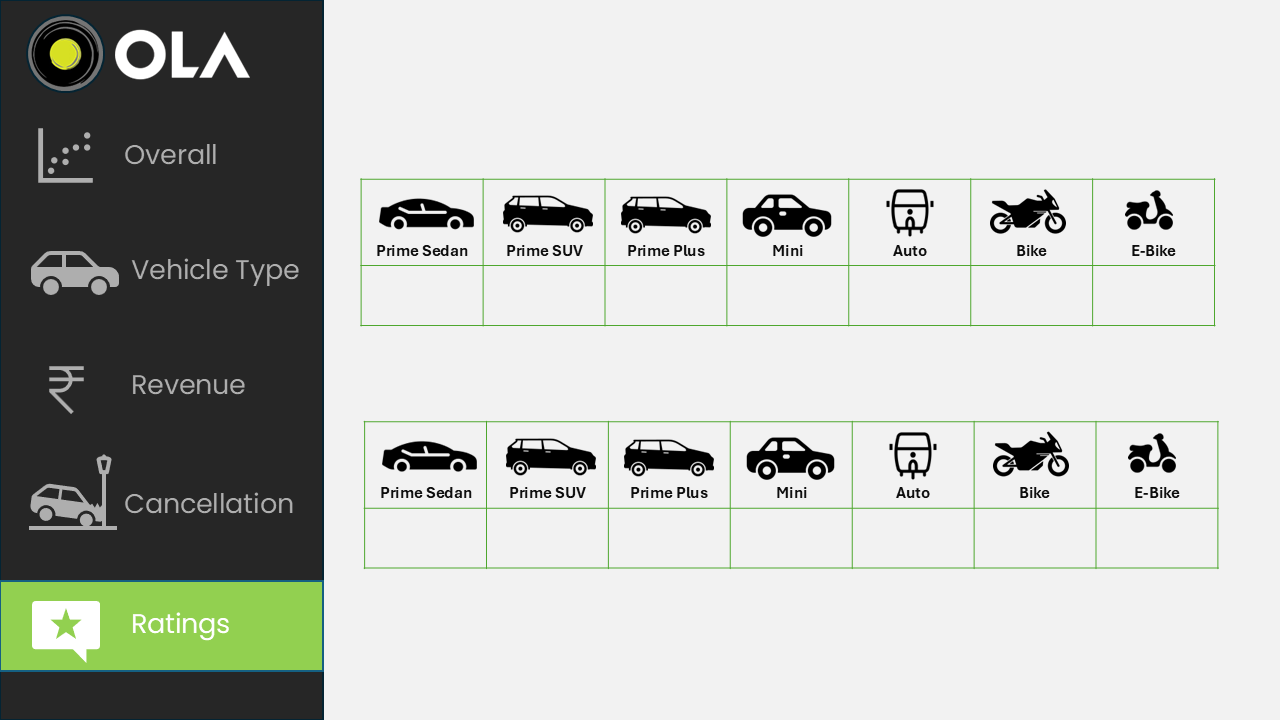

Layout of this report page (visuals, bound fields, positions):
{"tool":"powerbi","page":{"name":"Ratings","canvas":[1280,720],"ordinal":4},"visuals":[{"type":"actionButton","box":[0,224,320,96],"z":0},{"type":"actionButton","box":[0,336,320,96],"z":1000},{"type":"actionButton","box":[0,448,320,96],"z":2000},{"type":"actionButton","box":[0,112,320,96],"z":3000},{"type":"card","fields":{"Values":["Avg(Bookings - July.Driver_Ratings)"]},"box":[368,256,112,80],"z":4000},{"type":"card","fields":{"Values":["Avg(Bookings - July.Driver_Ratings)"]},"box":[1088,256,112,80],"z":5000},{"type":"card","fields":{"Values":["Avg(Bookings - July.Driver_Ratings)"]},"box":[976,256,112,80],"z":6000},{"type":"card","fields":{"Values":["Avg(Bookings - July.Driver_Ratings)"]},"box":[848,256,112,80],"z":7000},{"type":"card","fields":{"Values":["Avg(Bookings - July.Driver_Ratings)"]},"box":[720,256,112,80],"z":8000},{"type":"card","fields":{"Values":["Avg(Bookings - July.Driver_Ratings)"]},"box":[608,256,96,80],"z":9000},{"type":"card","fields":{"Values":["Avg(Bookings - July.Driver_Ratings)"]},"box":[480,256,112,80],"z":10000},{"type":"card","fields":{"Values":["Avg(Bookings - July.Customer_Rating)"]},"box":[368,496,112,80],"z":11000},{"type":"card","fields":{"Values":["Avg(Bookings - July.Customer_Rating)"]},"box":[608,496,112,80],"z":12000},{"type":"card","fields":{"Values":["Avg(Bookings - July.Customer_Rating)"]},"box":[480,496,112,80],"z":13000},{"type":"card","fields":{"Values":["Avg(Bookings - July.Customer_Rating)"]},"box":[1104,496,112,80],"z":14000},{"type":"card","fields":{"Values":["Avg(Bookings - July.Customer_Rating)"]},"box":[976,496,112,80],"z":15000},{"type":"card","fields":{"Values":["Avg(Bookings - July.Customer_Rating)"]},"box":[848,496,112,80],"z":16000},{"type":"card","fields":{"Values":["Avg(Bookings - July.Customer_Rating)"]},"box":[736,496,112,80],"z":17000},{"type":"textbox","box":[368,128,176,48],"z":18000},{"type":"textbox","box":[368,368,208,48],"z":19000},{"type":"slicer","title":"Date","fields":{"Values":["Bookings - July.Date"]},"box":[912,16,304,112],"z":20000}]}

Visuals, with their boxes on the page's 1280x720 design canvas (x1, y1, x2, y2). These are canvas units, not pixel positions in the 1280x720 screenshot, which may show the page scaled, cropped or inside an application window:
actionButton: detection(0, 224, 320, 320)
actionButton: detection(0, 336, 320, 432)
actionButton: detection(0, 448, 320, 544)
actionButton: detection(0, 112, 320, 208)
card - Avg(Bookings - July.Driver_Ratings): detection(368, 256, 480, 336)
card - Avg(Bookings - July.Driver_Ratings): detection(1088, 256, 1200, 336)
card - Avg(Bookings - July.Driver_Ratings): detection(976, 256, 1088, 336)
card - Avg(Bookings - July.Driver_Ratings): detection(848, 256, 960, 336)
card - Avg(Bookings - July.Driver_Ratings): detection(720, 256, 832, 336)
card - Avg(Bookings - July.Driver_Ratings): detection(608, 256, 704, 336)
card - Avg(Bookings - July.Driver_Ratings): detection(480, 256, 592, 336)
card - Avg(Bookings - July.Customer_Rating): detection(368, 496, 480, 576)
card - Avg(Bookings - July.Customer_Rating): detection(608, 496, 720, 576)
card - Avg(Bookings - July.Customer_Rating): detection(480, 496, 592, 576)
card - Avg(Bookings - July.Customer_Rating): detection(1104, 496, 1216, 576)
card - Avg(Bookings - July.Customer_Rating): detection(976, 496, 1088, 576)
card - Avg(Bookings - July.Customer_Rating): detection(848, 496, 960, 576)
card - Avg(Bookings - July.Customer_Rating): detection(736, 496, 848, 576)
textbox: detection(368, 128, 544, 176)
textbox: detection(368, 368, 576, 416)
"Date" slicer: detection(912, 16, 1216, 128)
